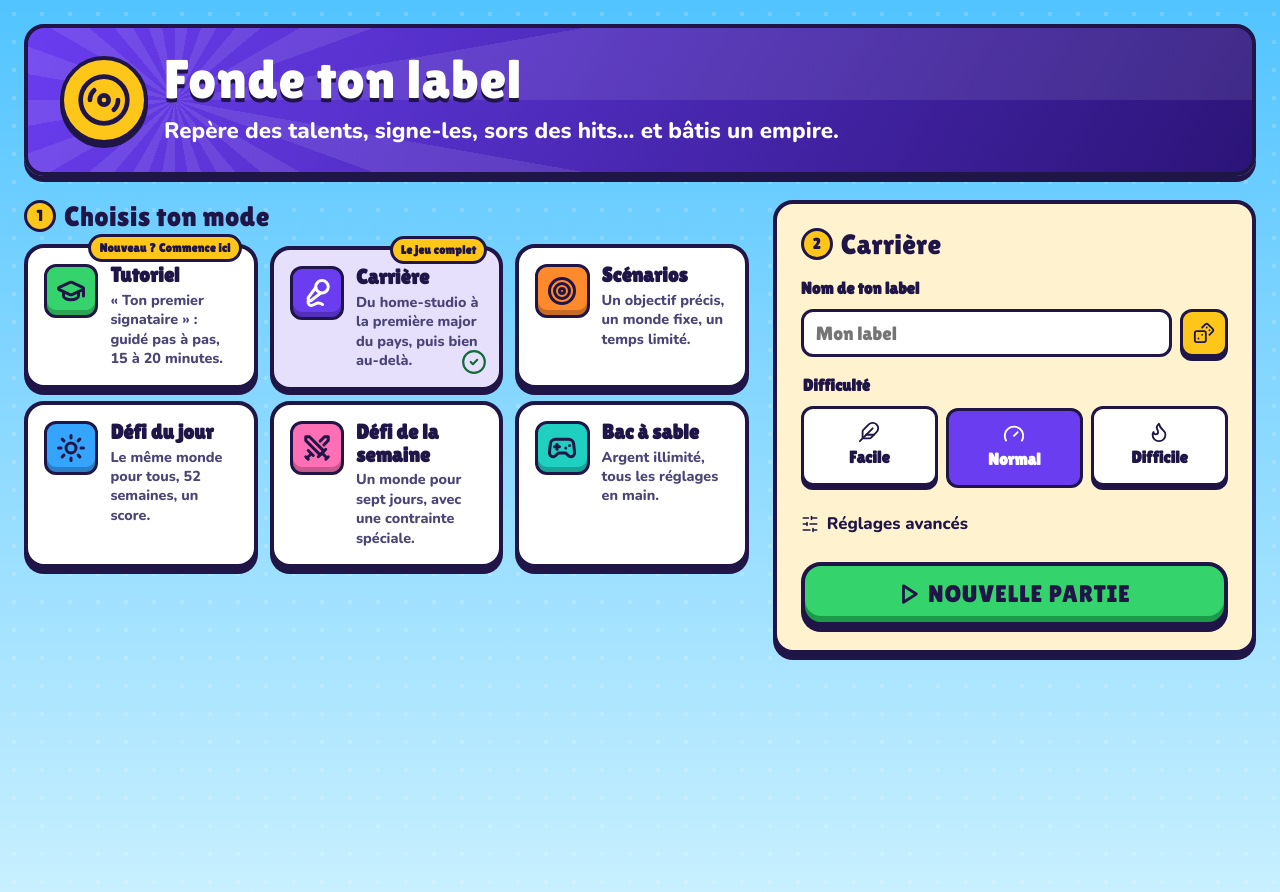
Test: boîte de réception › s’intègre à la coquille avec un badge sur l’onglet Boîte
This screenshot has width=1280, height=892.
Step 1. Click the button "Nouvelle partie" → (1014, 594), box [801, 562, 1228, 626]
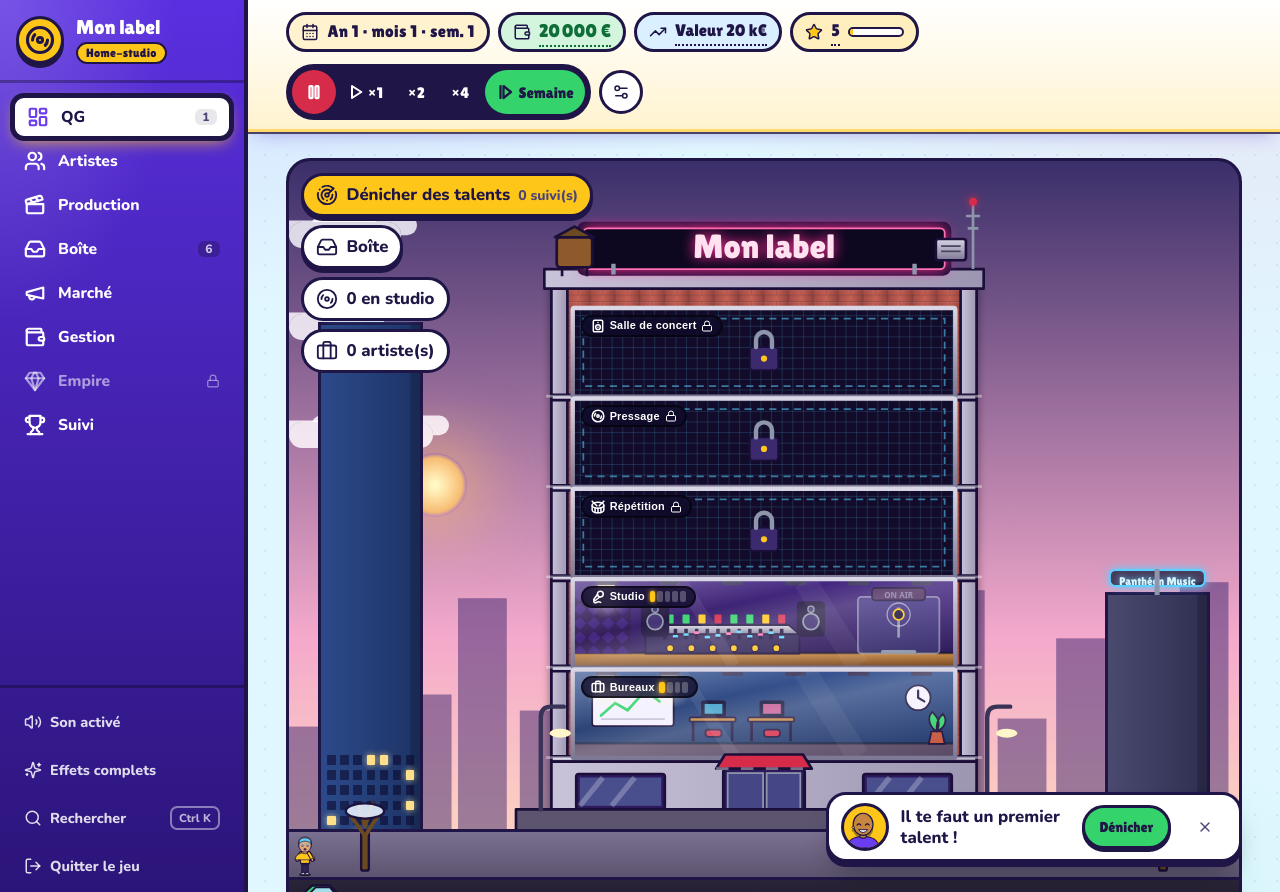
Step 2. Click the button "Boîte 6" → (122, 249), box [12, 227, 232, 271]
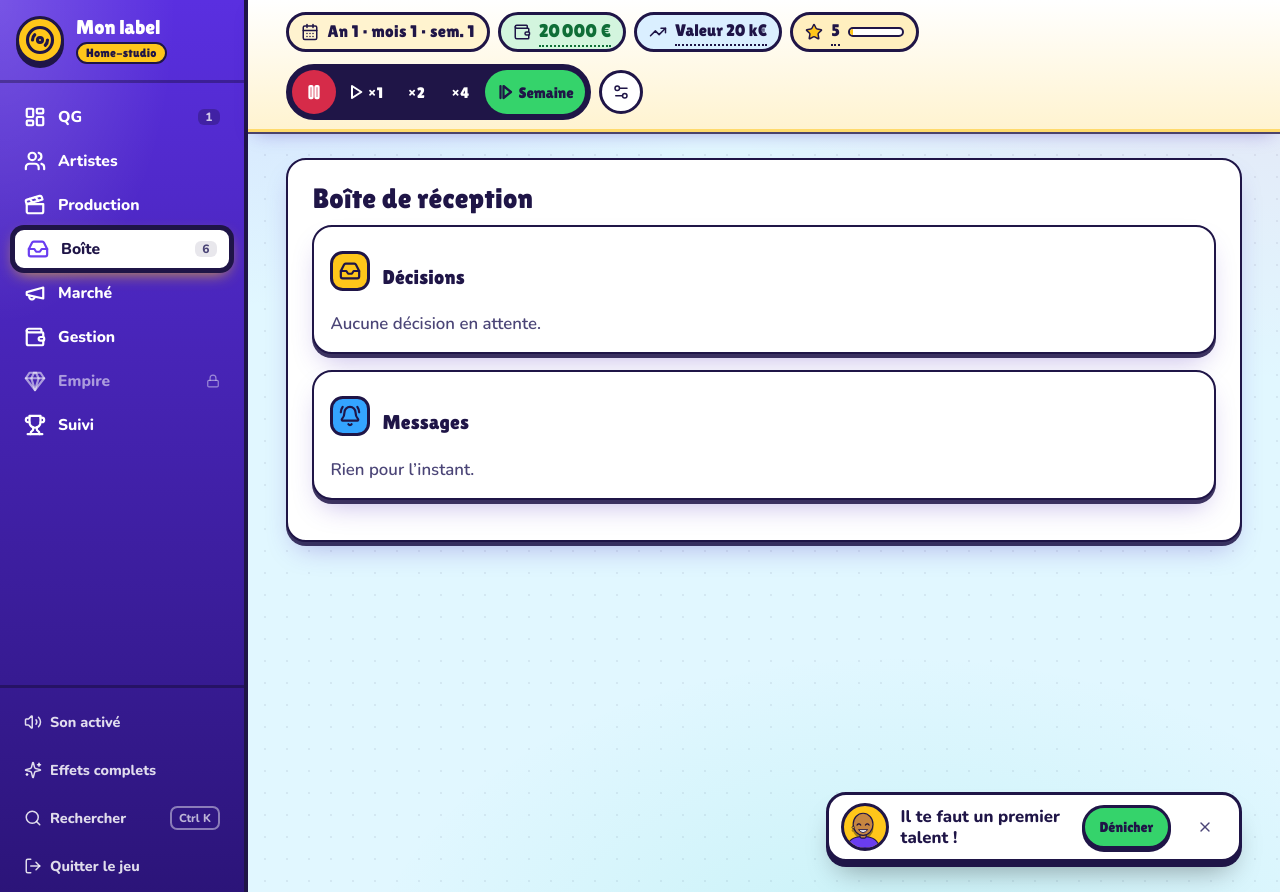
Expected: the heading "Boîte de réception" is shown, [312, 182, 533, 214]
